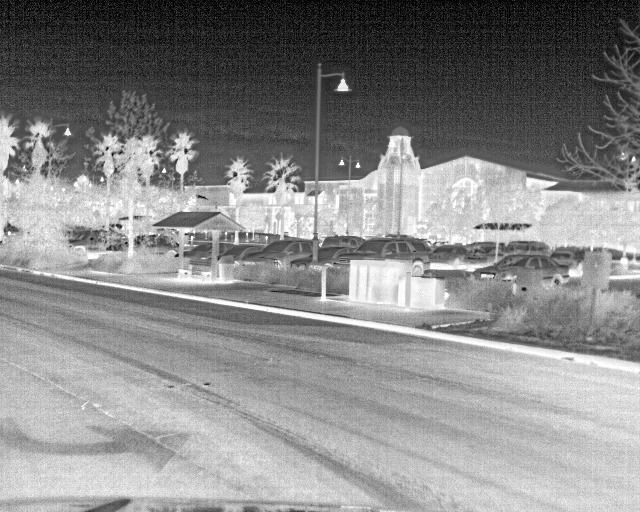car: (341, 236, 431, 276), (472, 254, 571, 289), (243, 236, 313, 265), (132, 232, 180, 259), (550, 244, 589, 273), (431, 241, 469, 267), (216, 245, 260, 266), (504, 238, 550, 256), (315, 245, 349, 263), (182, 243, 213, 258)
